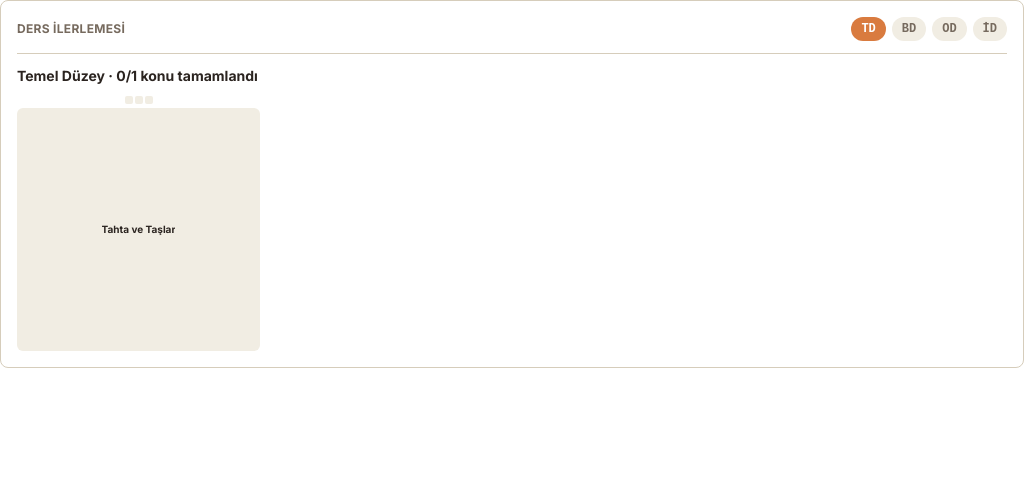
it: LessonProgressCard — Sporcu Profili Ders İlerlemesi + Ödevlerim (madde 2026-09-05) › bir Konu'ya tıklayınca Alt Konuları açılır
Click the button with aria-label "1. konu: Tahta ve Taşlar". click: (138, 230)
box: [17,108,260,351]
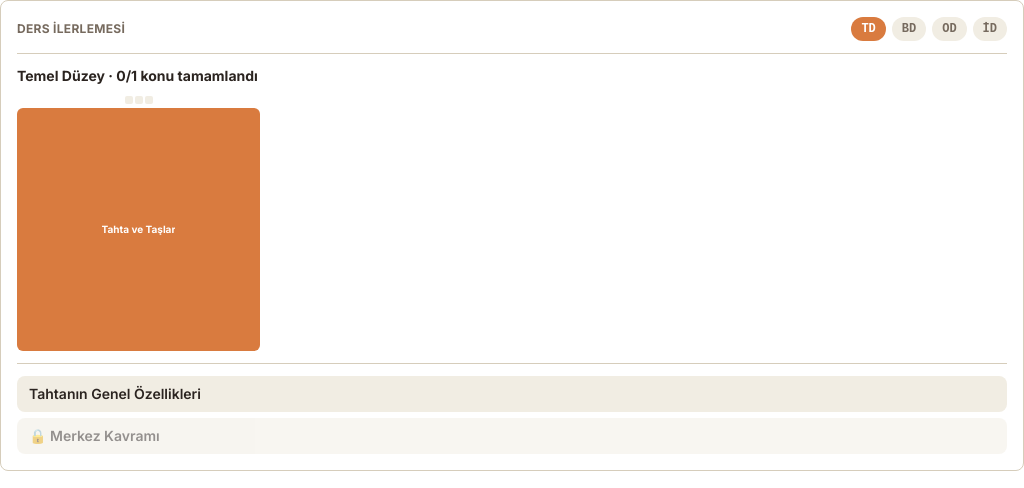
Expected: the button "Tahtanın Genel Özellikleri" is shown, [17,376,1007,412]
Expected: the button "🔒 Merkez Kavramı" is shown, [17,418,1007,454]
